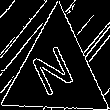N_SE: (30, 40, 82, 104)
